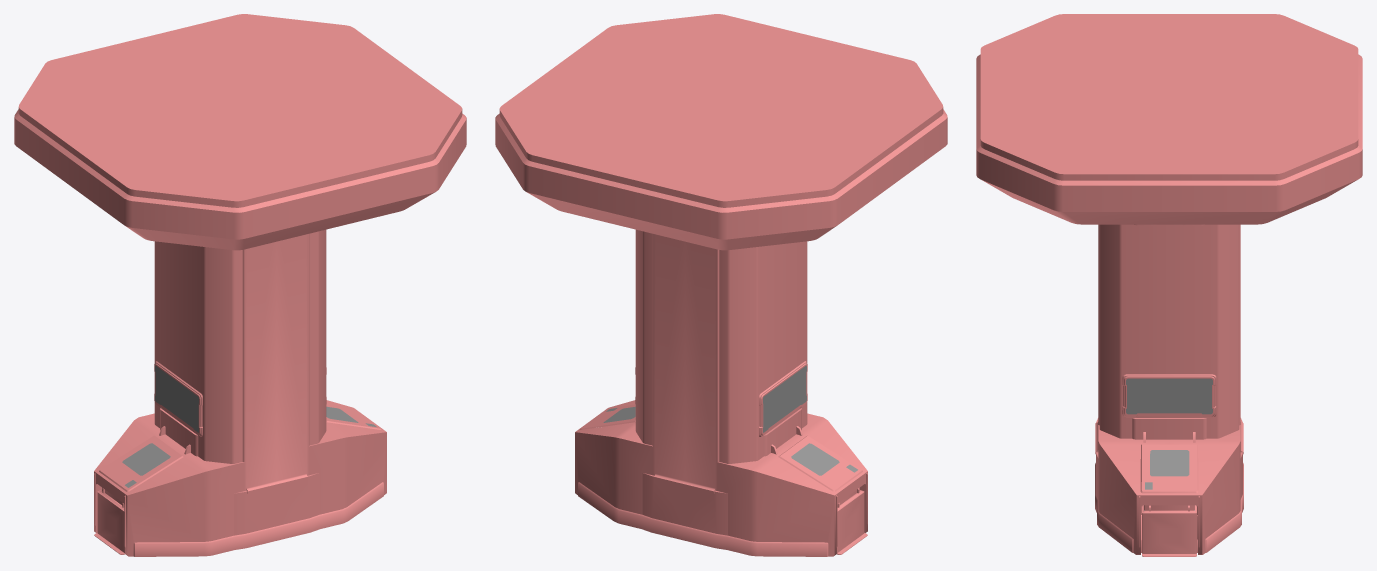
The model's file is S_Envi_FZFBase_Wall_02a.gltf.
3 views of the same model, side by side, from view 1: azimuth 30°, elevation 25°; view 2: azimuth 150°, elevation 25°; view 3: azimuth 270°, elevation 25° (orthographic).
Visible parts, largest first — view 1: S_Envi_FZFBase_Wall_02a; view 2: S_Envi_FZFBase_Wall_02a; view 3: S_Envi_FZFBase_Wall_02a.
Part boxes in pixels (<box>): S_Envi_FZFBase_Wall_02a: <box>14,14,466,556</box>; S_Envi_FZFBase_Wall_02a: <box>495,14,947,556</box>; S_Envi_FZFBase_Wall_02a: <box>976,14,1362,556</box>.
Size of the model in its own units: 8.1 by 9.2 by 8.07.
